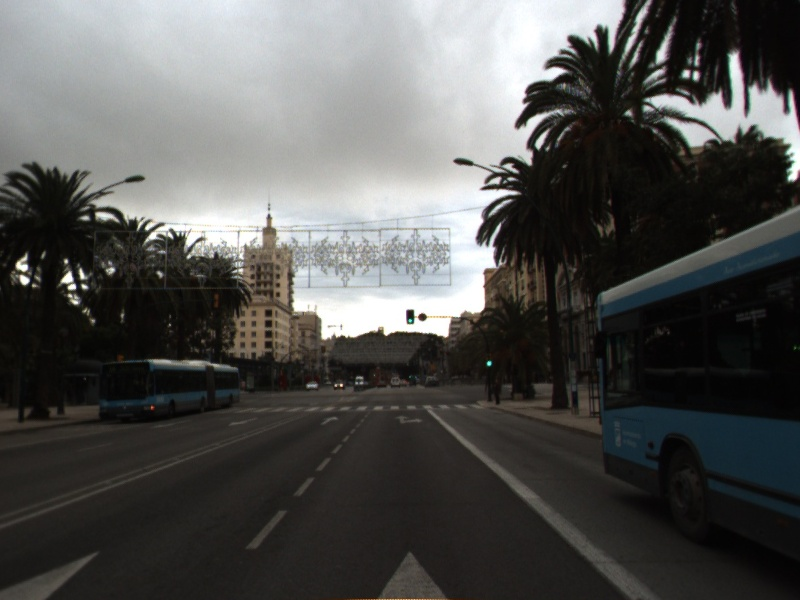STRAIGHT: (318, 414, 340, 427)
STRAIGHT_RIGHT: (393, 414, 425, 426)
